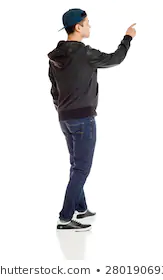person: (44, 6, 110, 93)
